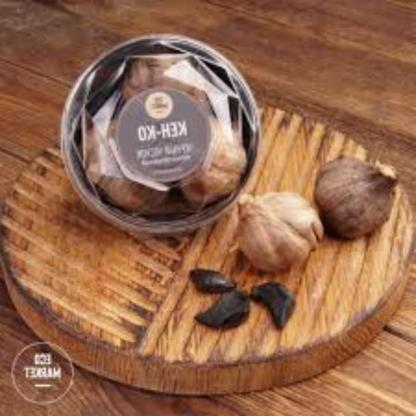garlic: (308, 146, 416, 237), (229, 183, 331, 271), (178, 263, 297, 336), (109, 40, 192, 121), (192, 95, 249, 210), (89, 134, 157, 214)
